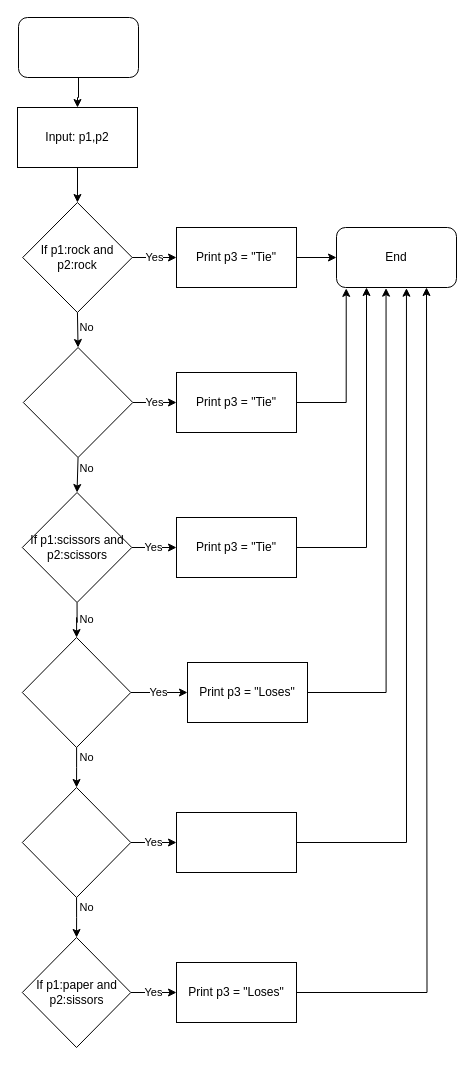
This 474x1065 diagram has some shape labels left out. The shapes that lost their labels are listed below. From the top down, each one's centre as x and y in pixels, then its label:
[78,47]: Start
[77,402]: If p1:paper and p2:paper
[76,692]: If p1:rock and p2:paper
[76,842]: If p1:rock and p2:sissors
[236,842]: Print p3 = "Wins"
